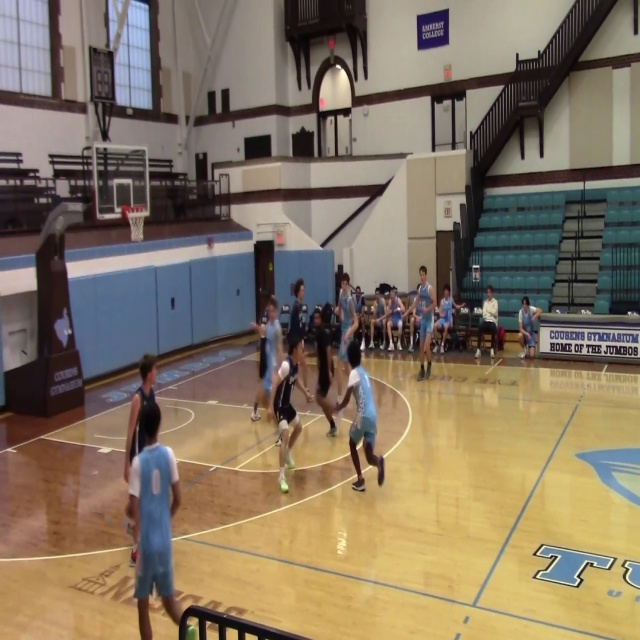Basketball: (278, 360, 291, 380), (185, 626, 199, 640)
